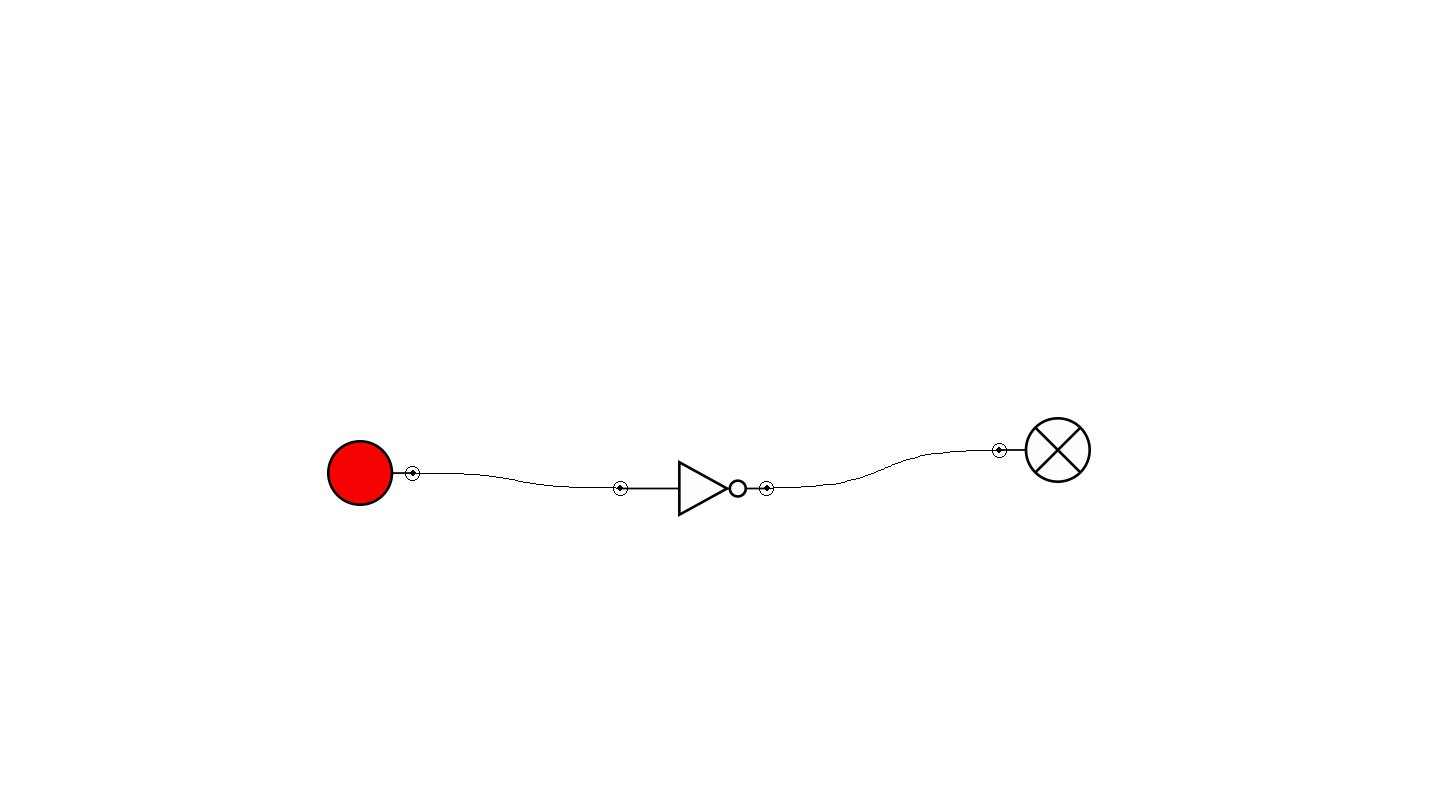bulb: (992, 417, 1091, 483)
not: (613, 460, 774, 517)
switch_False: (327, 440, 420, 506)
